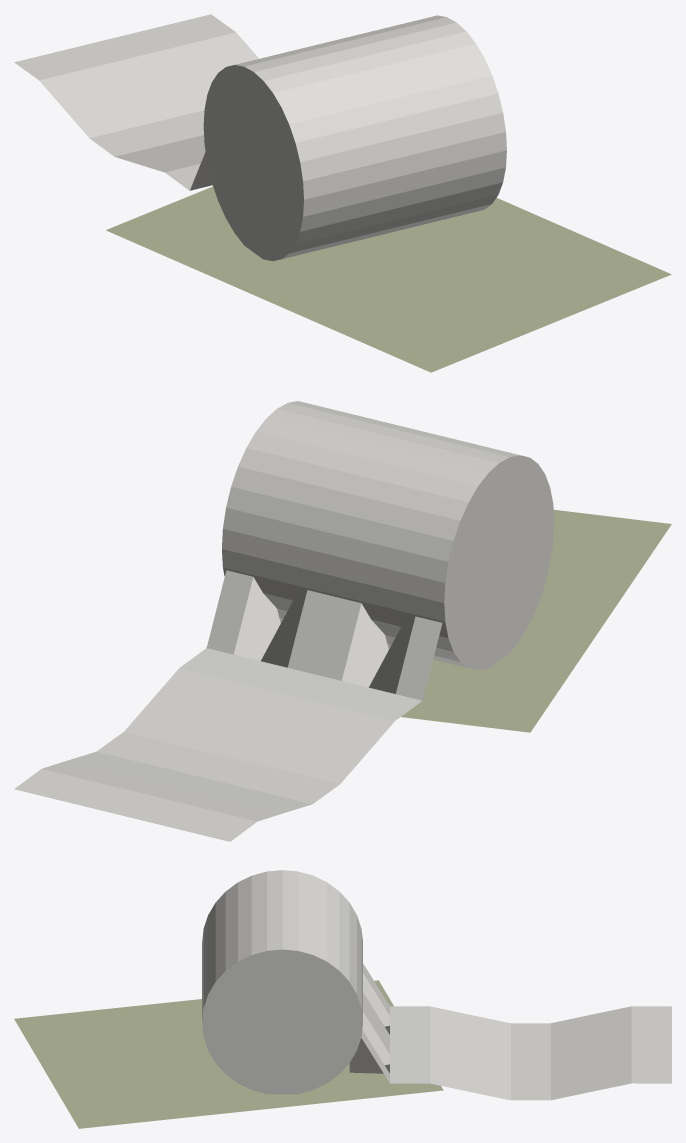
The model's file is bandage.glb.
The picture shows the model from 3 angles, top to bottom: view 1: azimuth 30°, elevation 25°; view 2: azimuth 150°, elevation 25°; view 3: azimuth 270°, elevation 25°; orthographic projection. The views are drawn at different scales.
Visible parts, largest first — view 1: Bandage; view 2: Bandage; view 3: Bandage.
Part boxes in pixels (x1,y1,x2,y2): Bandage: [14, 14, 671, 372]; Bandage: [14, 401, 671, 841]; Bandage: [14, 870, 671, 1128].
Size of the model in its own units: 0.1309 by 0.0625 by 0.245.
